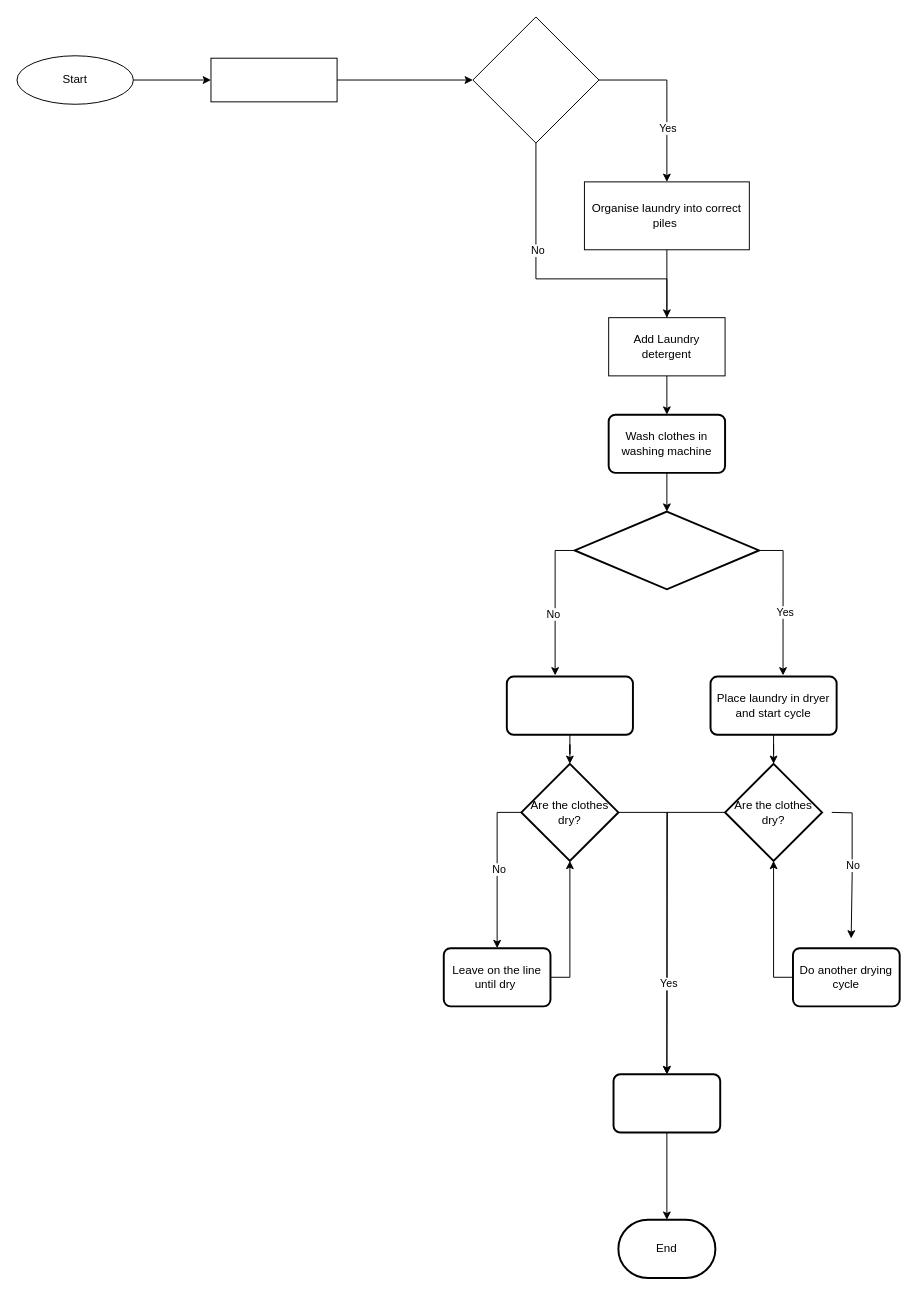
Some shapes in this 918 by 1296 pixel diagram are drawn without their labels. The shapes that lost their labels are listed below. From the top down, each one's box as (x1, y1, x2, y2) in pixels, then its label:
(210, 57, 337, 102): Gather the Laundry
(472, 16, 599, 143): Does the Laundry need separating?
(573, 510, 760, 590): Do you want to use the dryer?
(505, 675, 633, 735): Hang laundry on clothes line
(612, 1073, 721, 1133): Fold and put away
